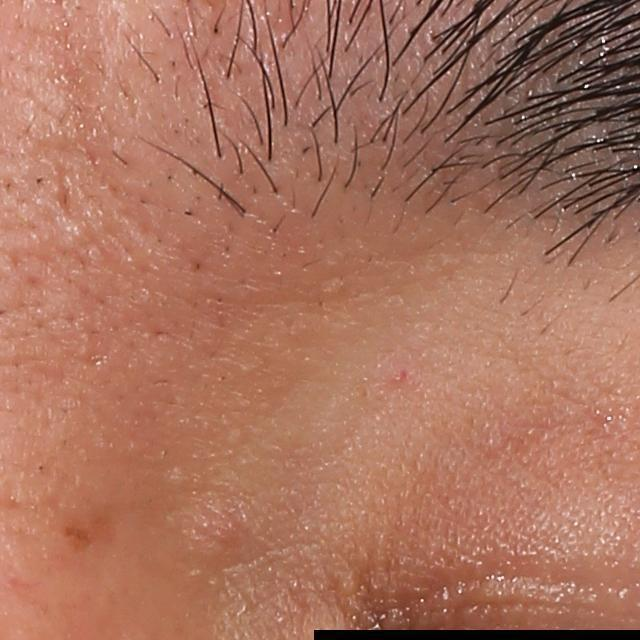atrophic_scar: (37, 58, 103, 176), (53, 160, 75, 221)
